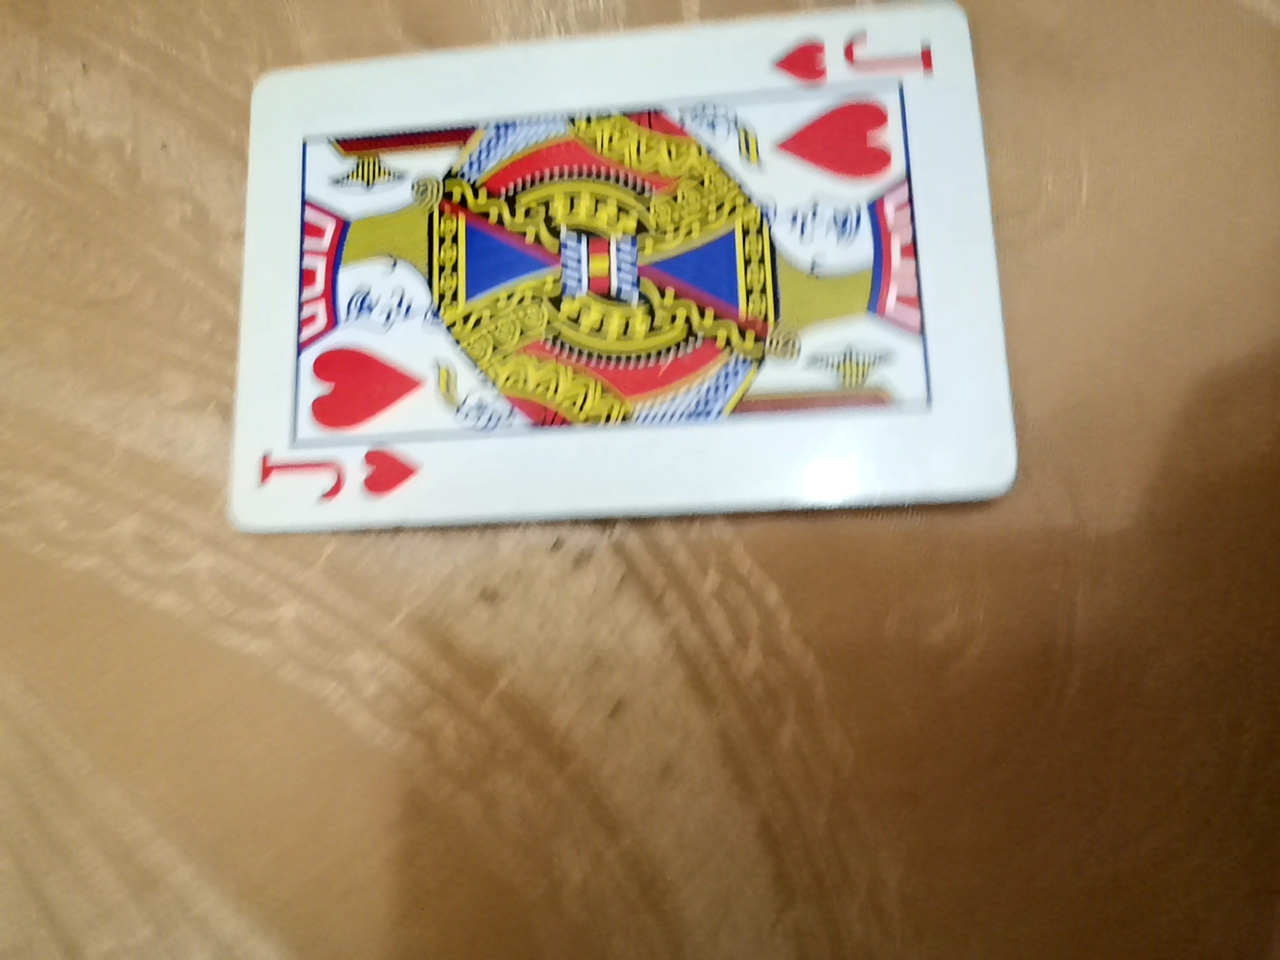hx j: (211, 0, 994, 461)
